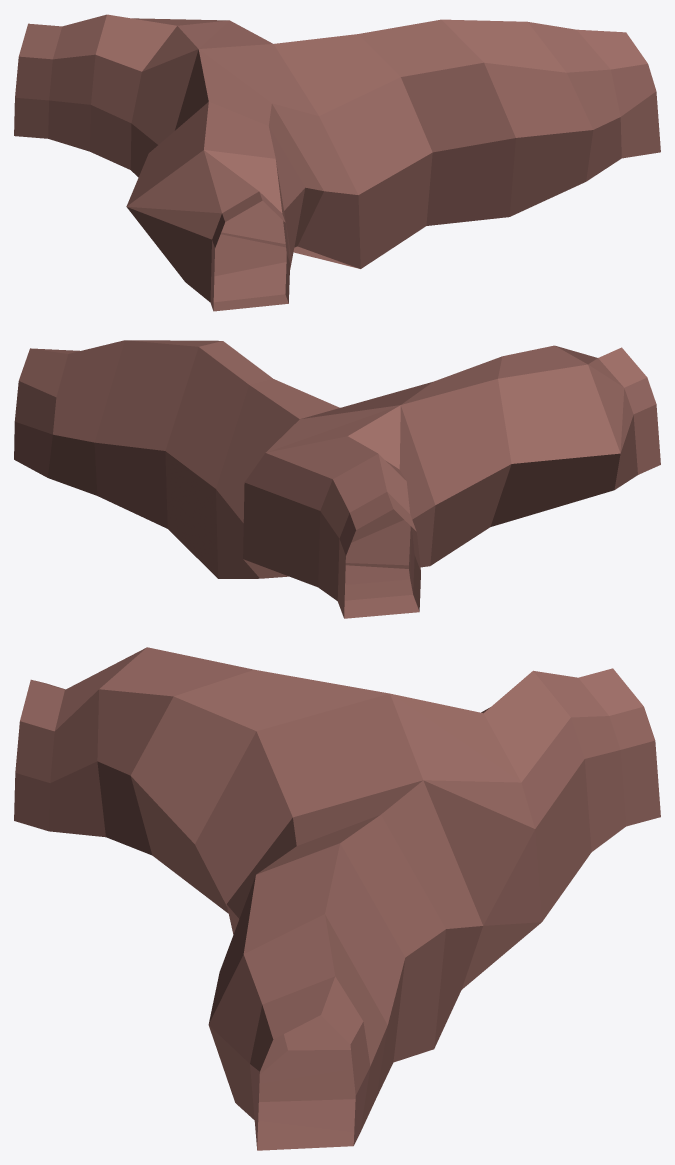
Rendered from Tunnel-Y04.fbx.
3 views of the same model, one above another, from view 1: azimuth 30°, elevation 25°; view 2: azimuth 150°, elevation 25°; view 3: azimuth 270°, elevation 25° (orthographic). The views are drawn at different scales.
Parts seen in each view (by area): view 1: Tunnel-Y04; view 2: Tunnel-Y04; view 3: Tunnel-Y04.
Part boxes in pixels (x1=…): Tunnel-Y04: x1=14, y1=14, x2=660, y2=311; Tunnel-Y04: x1=14, y1=340, x2=660, y2=618; Tunnel-Y04: x1=14, y1=647, x2=660, y2=1150.
Bounding box in the file's own units: 1128 × 1405 × 501.
